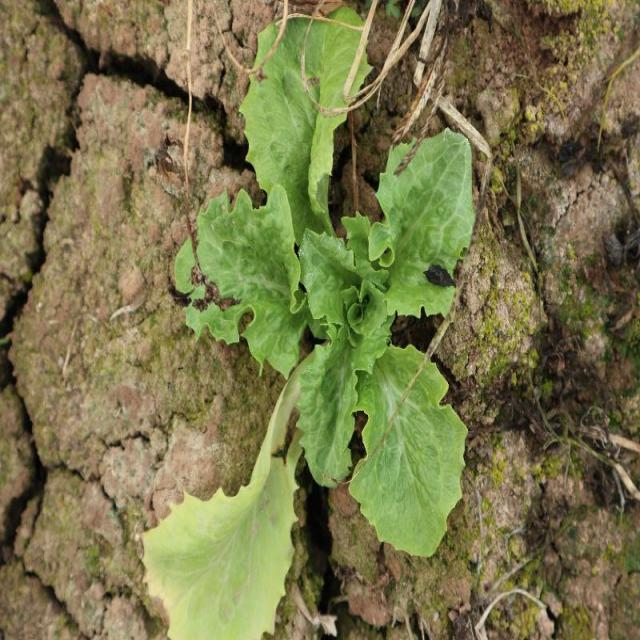crop: (141, 0, 477, 640)
